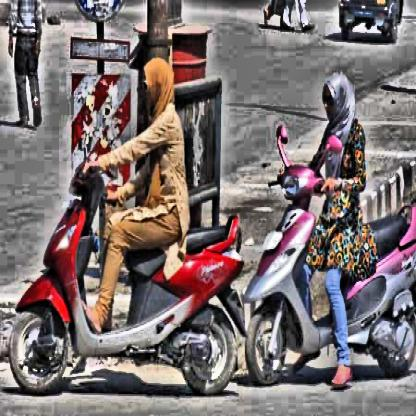not_wear: (321, 72, 358, 139), (140, 58, 174, 119)
